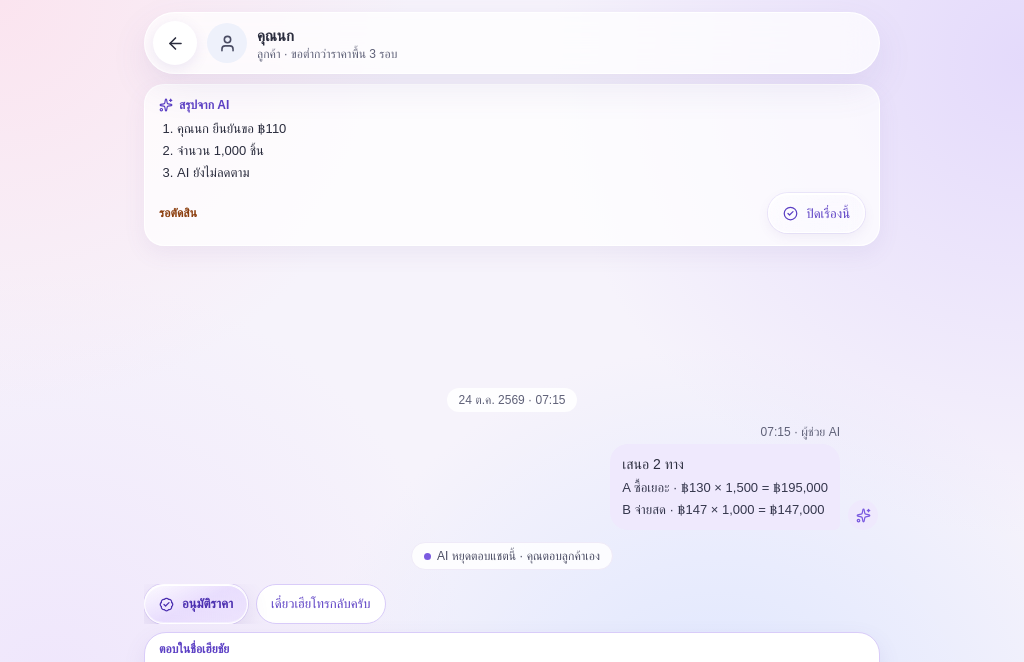
Test: OwnerChatScreen — อนุมัติราคา (AI เจรจา เถ้าแก่แค่ตัดสิน) › จำนวนเริ่มจากที่ลูกค้าขอ · เห็นกำไรก่อนกด · ต่ำกว่าพื้นมีคำเตือน · กดแล้วส่ง approve_price
Step 1. Click the button "อนุมัติราคา" → (196, 604), box top-left (144, 584), bottom-right (248, 624)
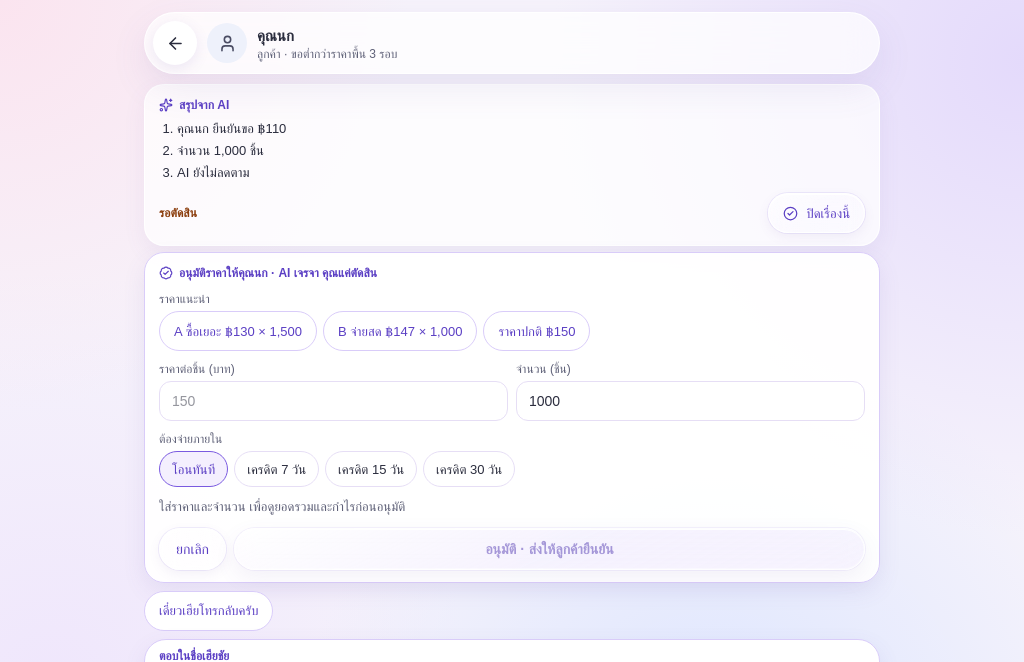
Expected: the number field labelled "จำนวน (ชิ้น)" holds "1000", top-left (516, 381), bottom-right (865, 421)
Expected: the button "อนุมัติ · ส่งให้ลูกค้ายืนยัน" is disabled, top-left (234, 528), bottom-right (865, 570)
Step 2. Type "110" into the number field labelled "ราคาต่อชิ้น (บาท)" → (334, 401), box top-left (159, 381), bottom-right (508, 421)
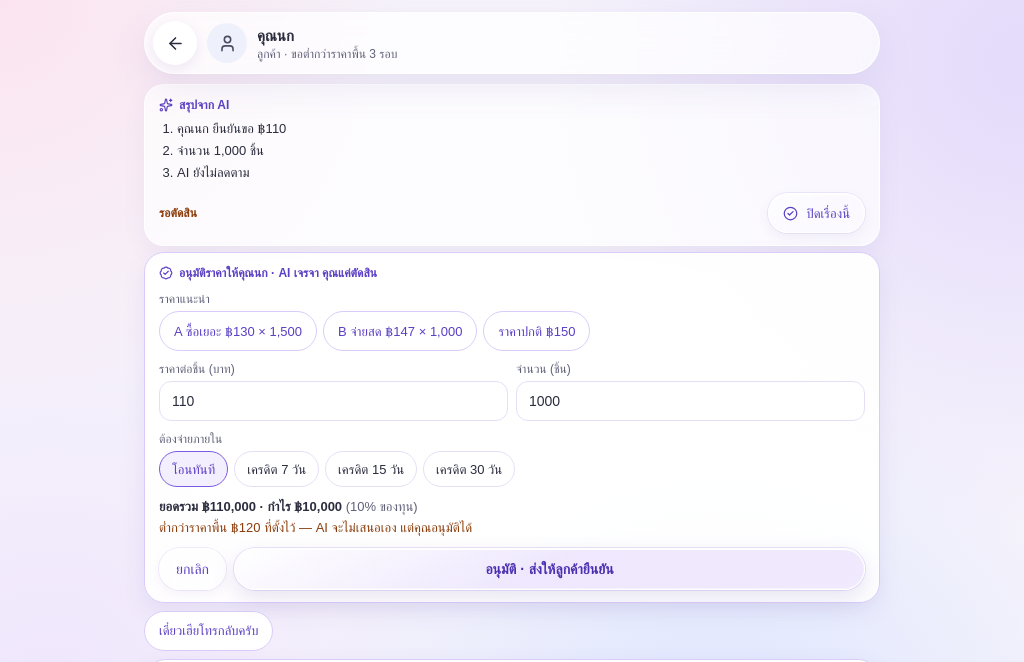
Expected: the text "ยอดรวม ฿110,000 · กำไร ฿10,000" is shown, top-left (159, 499), bottom-right (342, 514)
Expected: the text "ต่ำกว่าราคาพื้น ฿120" is shown, top-left (159, 520), bottom-right (472, 535)
Step 3. Click the button "เครดิต 7 วัน" → (277, 469), box top-left (234, 451), bottom-right (319, 487)
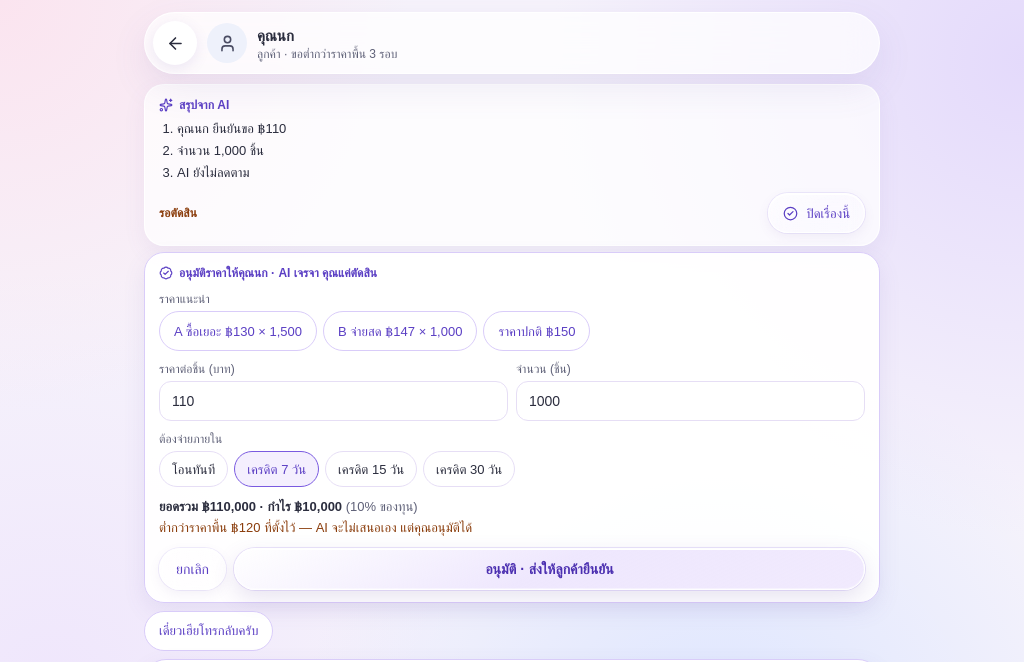
Step 4. Click the button "อนุมัติ · ส่งให้ลูกค้ายืนยัน" → (550, 569), box top-left (234, 548), bottom-right (865, 590)
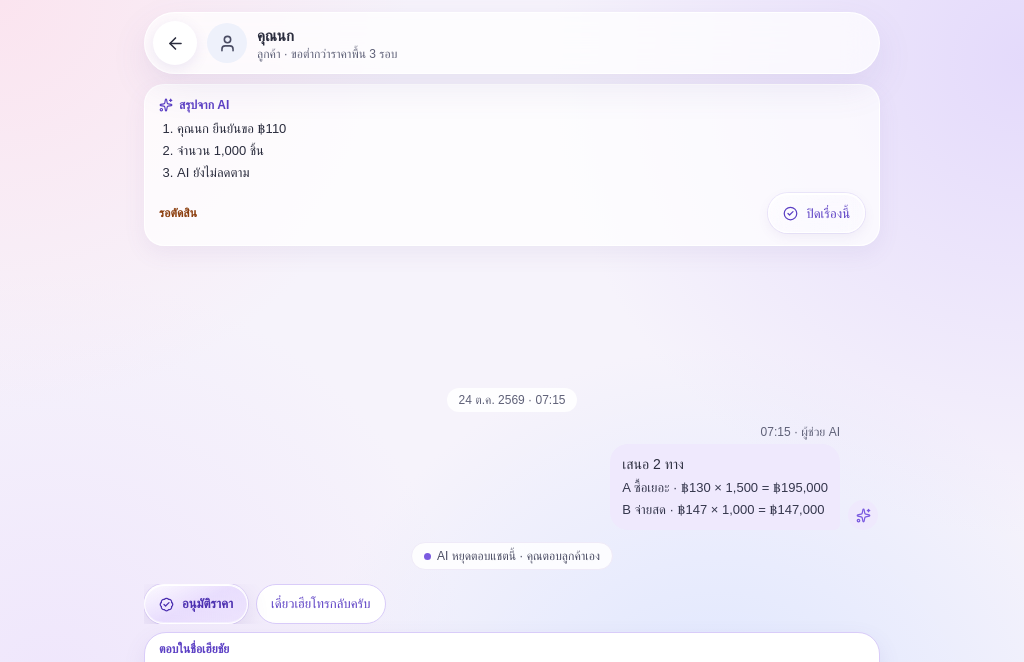
Expected: the element "อนุมัติราคาให้ลูกค้า" is gone
